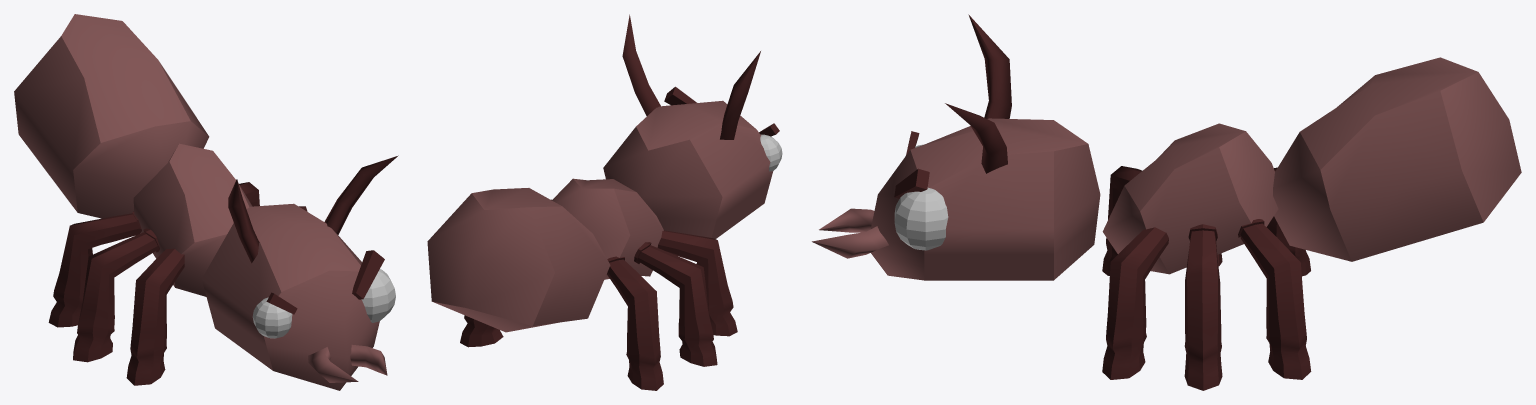
The model's file is liz_ant.fbx.
The picture shows the model from 3 angles, left to right: view 1: azimuth 30°, elevation 25°; view 2: azimuth 150°, elevation 25°; view 3: azimuth 270°, elevation 25°; orthographic projection. The views are drawn at different scales.
Parts seen in each view (by area): view 1: pCube3, pCube1, pCube2, pCylinder10, pCylinder12, pCylinder11, pCone2, pSphere2, pCone3, pSphere1, pCube4, pCone5 (+1 smaller); view 2: pCube3, pCube1, pCube2, pCylinder10, pCylinder11, pCylinder12, pCone2, pCone3, pCylinder7, pSphere1, pCube4; view 3: pCube3, pCube1, pCube2, pCylinder7, pCylinder8, pCylinder9, pSphere2, pCone3, pCone2, pCone4, pCylinder12, pCone5 (+2 smaller).
Boxes of the visible parts, <box> form: pCube3: <box>14,14,209,218</box>; pCube1: <box>201,203,379,390</box>; pCube2: <box>133,143,252,296</box>; pCylinder10: <box>73,228,159,362</box>; pCylinder12: <box>126,248,184,385</box>; pCylinder11: <box>48,211,141,327</box>; pCone2: <box>324,155,398,234</box>; pSphere2: <box>361,269,395,322</box>; pCone3: <box>228,179,259,263</box>; pSphere1: <box>252,297,292,338</box>; pCube4: <box>352,250,384,299</box>; pCone5: <box>308,347,358,382</box>; pCube3: <box>427,188,610,332</box>; pCube1: <box>603,100,773,238</box>; pCube2: <box>552,178,663,279</box>; pCylinder10: <box>634,242,717,366</box>; pCylinder11: <box>607,256,663,390</box>; pCylinder12: <box>657,230,737,336</box>; pCone2: <box>622,14,660,116</box>; pCone3: <box>720,51,760,139</box>; pCylinder7: <box>460,315,503,347</box>; pSphere1: <box>760,134,782,171</box>; pCube4: <box>664,86,696,105</box>; pCube3: <box>1273,57,1521,261</box>; pCube1: <box>871,118,1100,280</box>; pCube2: <box>1102,123,1278,274</box>; pCylinder7: <box>1238,219,1311,379</box>; pCylinder8: <box>1102,227,1168,379</box>; pCylinder9: <box>1184,224,1222,390</box>; pSphere2: <box>894,187,948,250</box>; pCone3: <box>968,14,1011,118</box>; pCone2: <box>945,103,1007,173</box>; pCone4: <box>812,226,888,258</box>; pCylinder12: <box>1102,166,1142,275</box>; pCone5: <box>819,208,874,232</box>.
Bounding box in the file's own units: 2.33 × 2.17 × 5.13.
